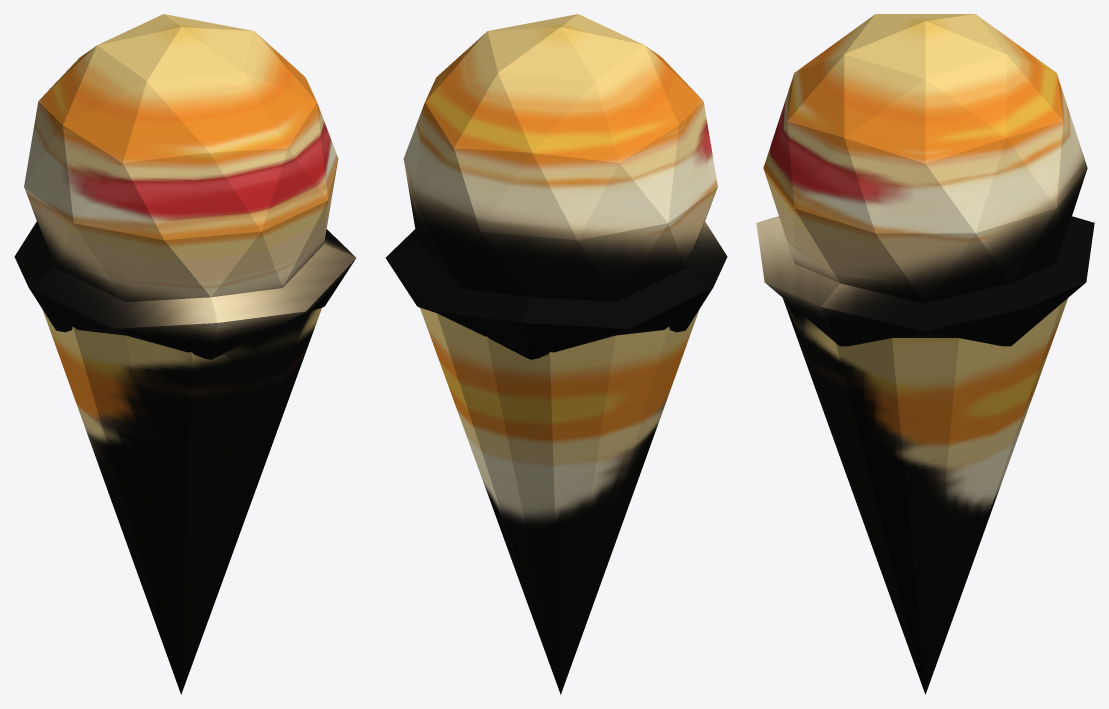
The model's file is icecream2.glb.
3 renders of one model, left to right at view 1: azimuth 30°, elevation 25°; view 2: azimuth 150°, elevation 25°; view 3: azimuth 270°, elevation 25°, orthographic.
Visible parts, largest first — view 1: Icecream_Cone; view 2: Icecream_Cone; view 3: Icecream_Cone.
Boxes of the visible parts, x1,y1,x2,y2 form: Icecream_Cone: (14, 14, 356, 694); Icecream_Cone: (385, 14, 727, 694); Icecream_Cone: (756, 14, 1094, 694).
Bounding box in the file's own units: 0.8542 × 1.83 × 0.8327.
Materials: 1 (1 with a texture image).
